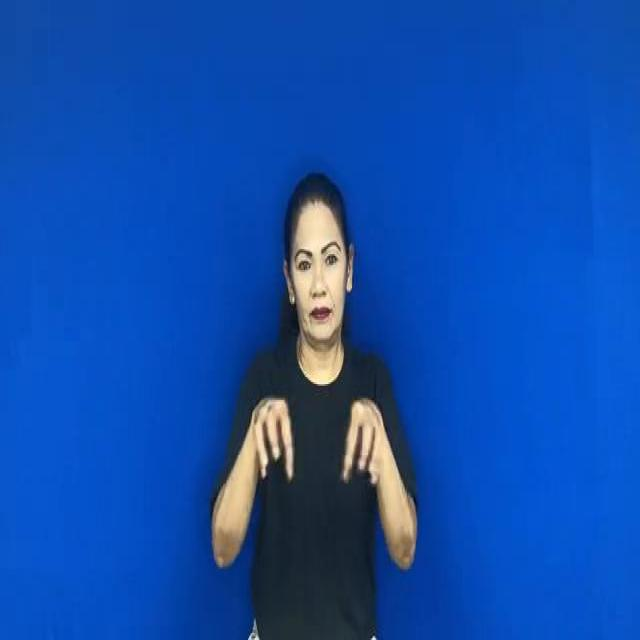egg: (252, 374, 388, 500)
